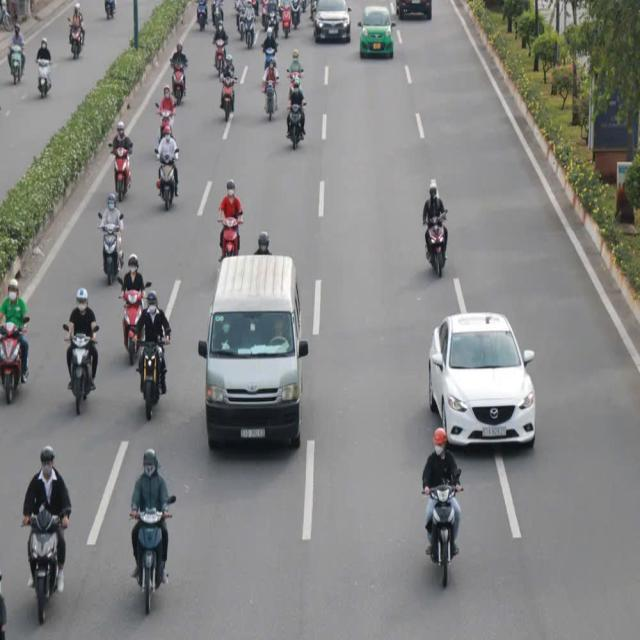car: (210, 259, 304, 462), (426, 311, 540, 444), (362, 8, 394, 69), (315, 0, 350, 42)
motobyte: (29, 447, 64, 623), (426, 436, 460, 591), (136, 461, 168, 611), (141, 301, 168, 424), (69, 288, 94, 414), (3, 282, 28, 401), (423, 184, 449, 272), (153, 127, 180, 211), (100, 199, 122, 299), (108, 121, 132, 199), (221, 184, 245, 257), (123, 262, 142, 345), (288, 86, 307, 152), (67, 1, 87, 59), (258, 66, 278, 121), (170, 43, 186, 109), (218, 56, 234, 121), (9, 26, 26, 84), (260, 28, 280, 72), (211, 24, 229, 70), (38, 39, 52, 94), (287, 51, 302, 96)
